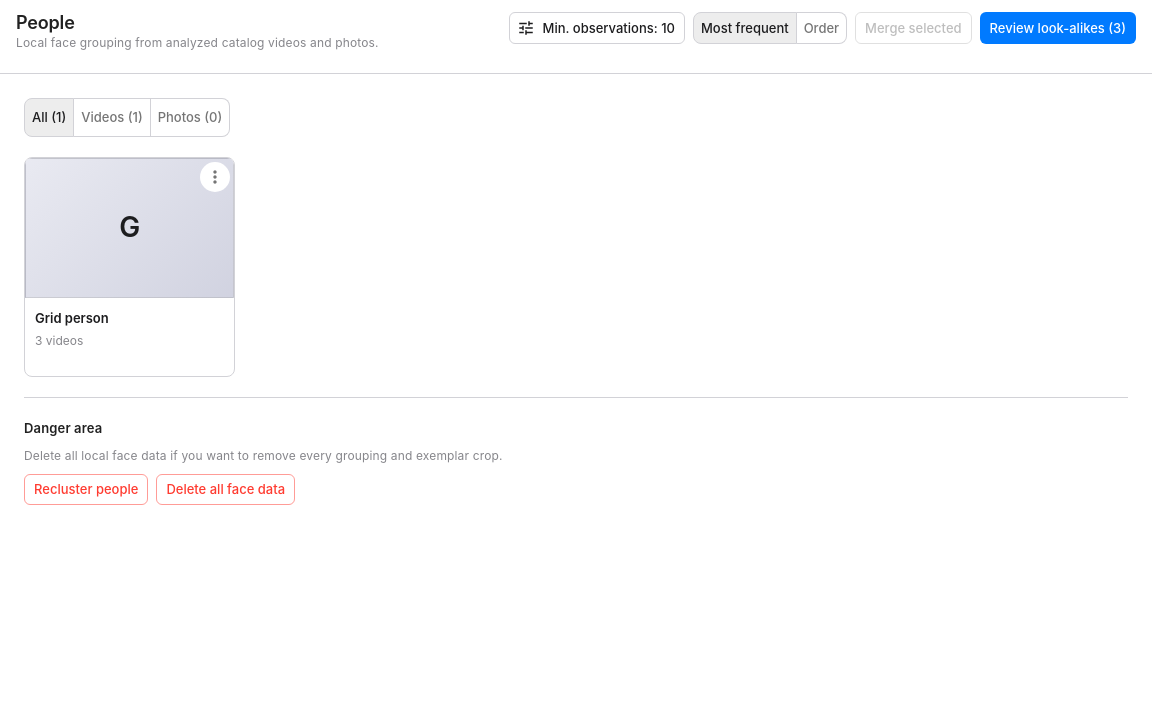
it: Osoby pair review card › counts answers up while the denominator holds still, then shows the empty state
Click the button with test id "people-pair-review-open": (1058, 28) [980,12,1136,44]
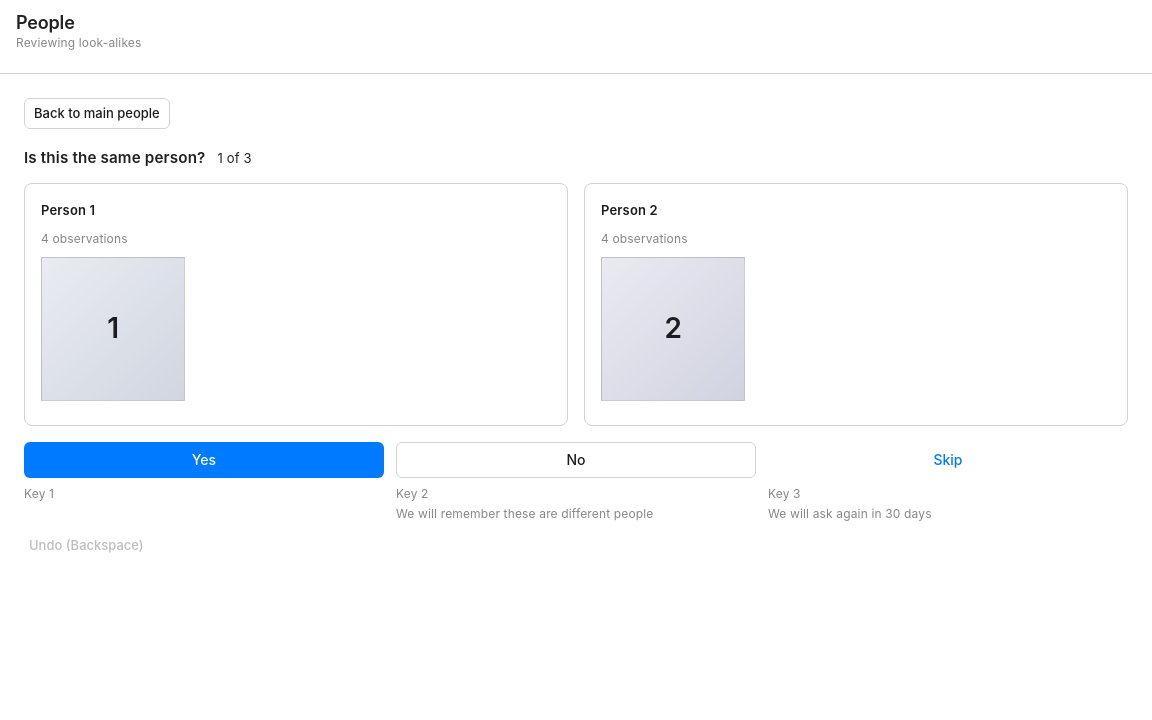
Now the element with test id "people-pair-review" is shown, box [24,149,1128,561]
Now the message with test id "people-pair-review-position" reads "1 of 3", box [218,150,252,166]
Click the button with test id "people-pair-review-different": (576, 460) [396,442,756,478]
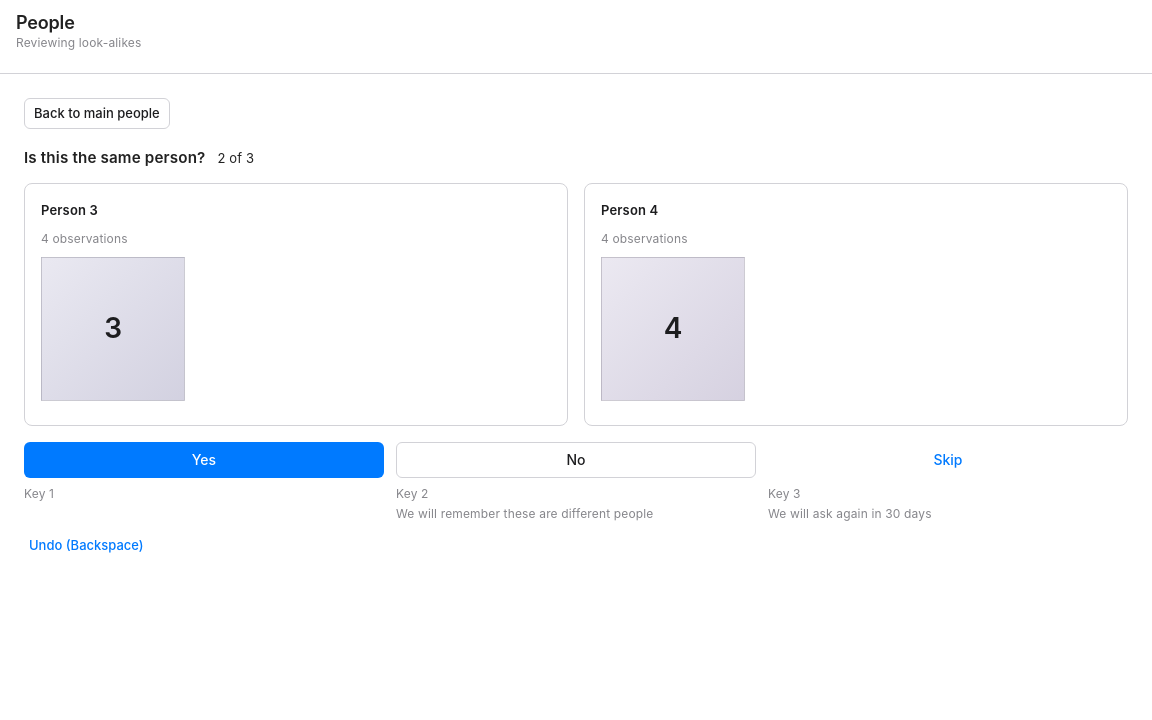
Now the message with test id "people-pair-review-position" reads "2 of 3", box [218,150,254,166]
Click the button with test id "people-pair-review-different": (576, 460) [396,442,756,478]
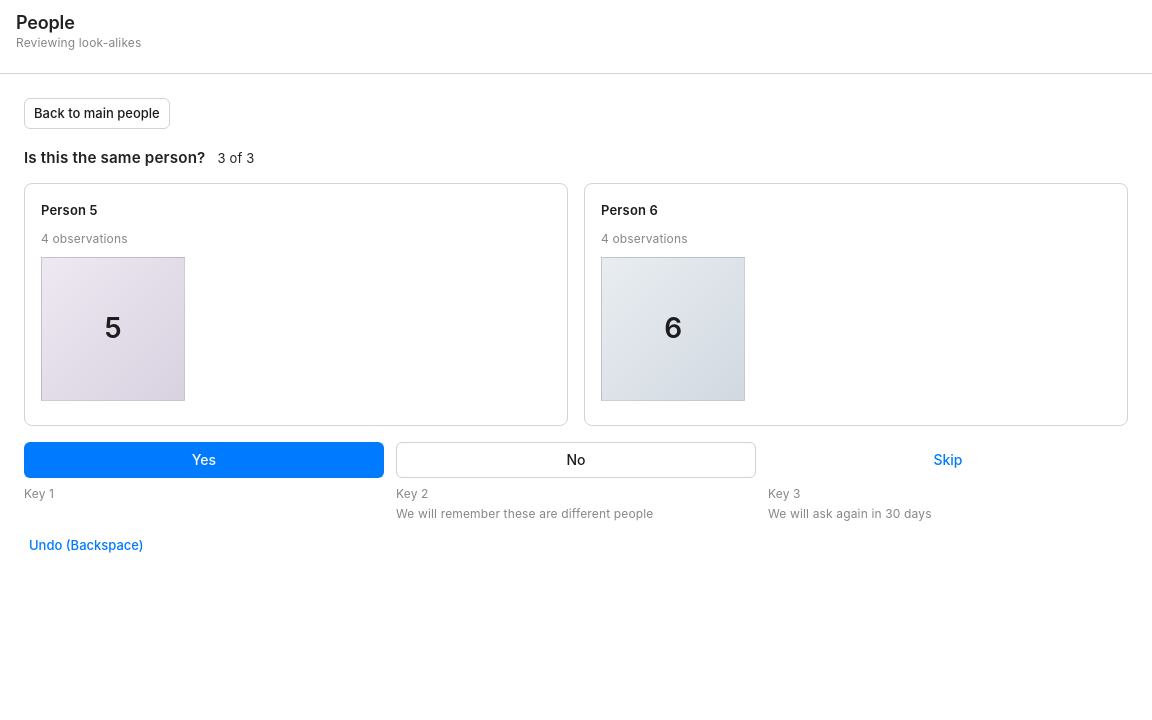
Now the message with test id "people-pair-review-position" reads "3 of 3", box [218,150,254,166]
Click the button with test id "people-pair-review-different": (576, 460) [396,442,756,478]
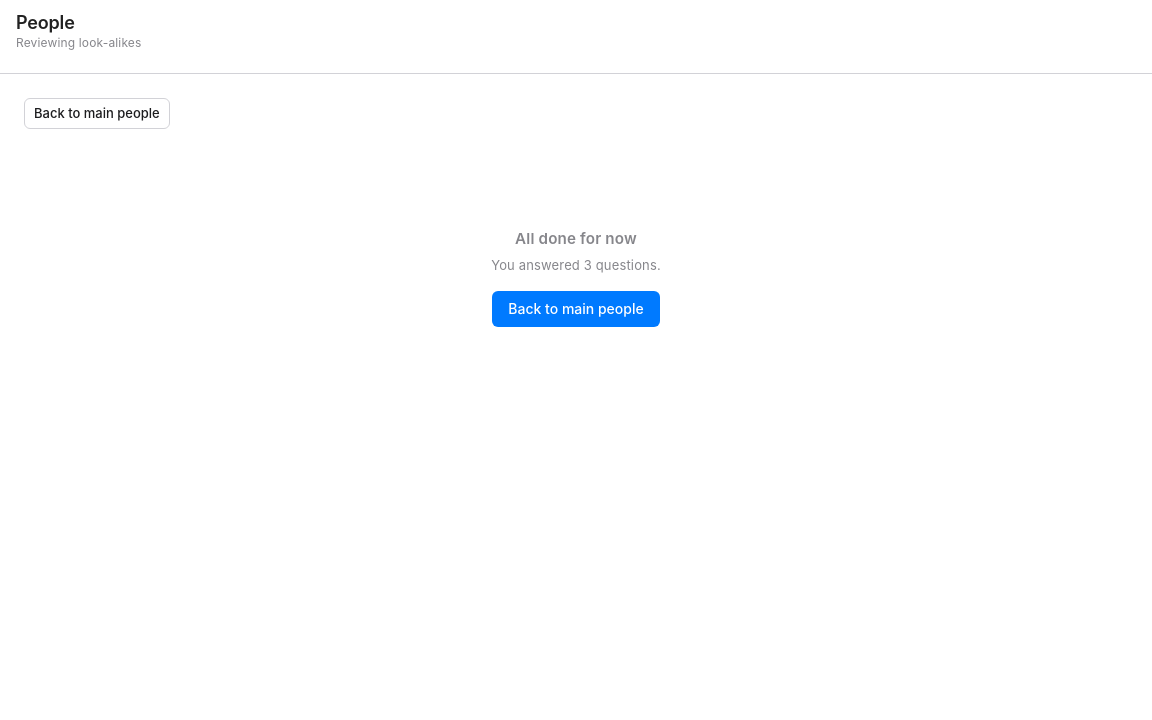
Now the element with test id "people-pair-review-done" is shown, box [491,229,661,327]
Now the message with test id "people-pair-review-position" is gone
